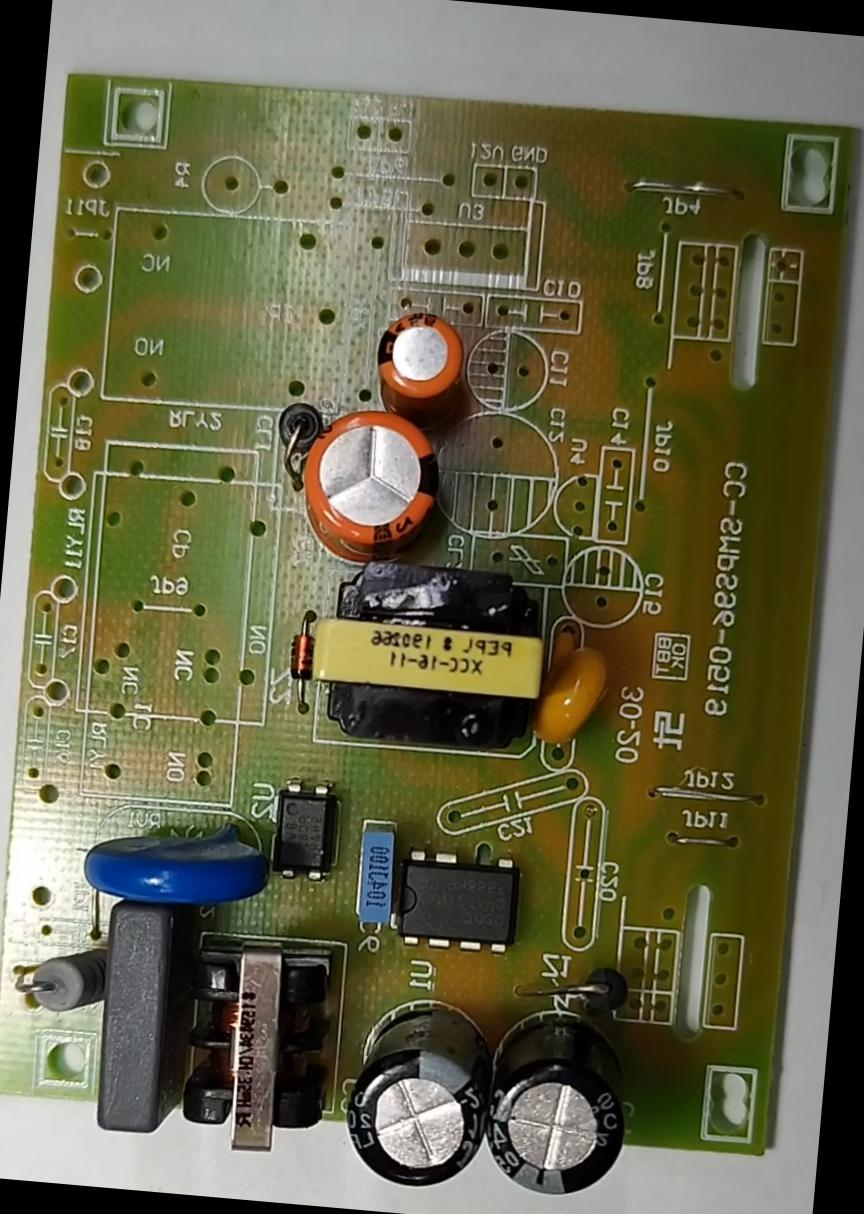Cap1: (284, 396, 452, 568)
Cap2: (361, 300, 478, 424)
Cap3: (326, 980, 510, 1204)
Cap4: (466, 986, 644, 1206)
MOSFET: (384, 838, 533, 963)
Mov: (64, 792, 288, 926)
Resistor: (4, 922, 118, 1030)
Transformer: (296, 555, 567, 764), (170, 920, 344, 1168)
